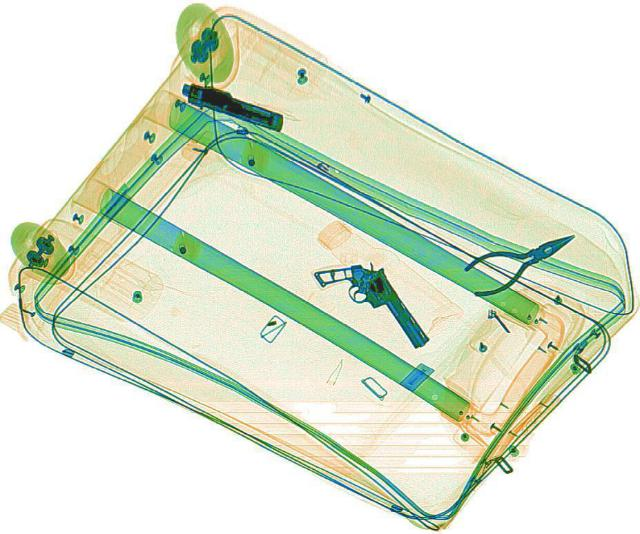Gun: (311, 248, 433, 364), (175, 76, 289, 131)
Pliers: (452, 217, 592, 299)
